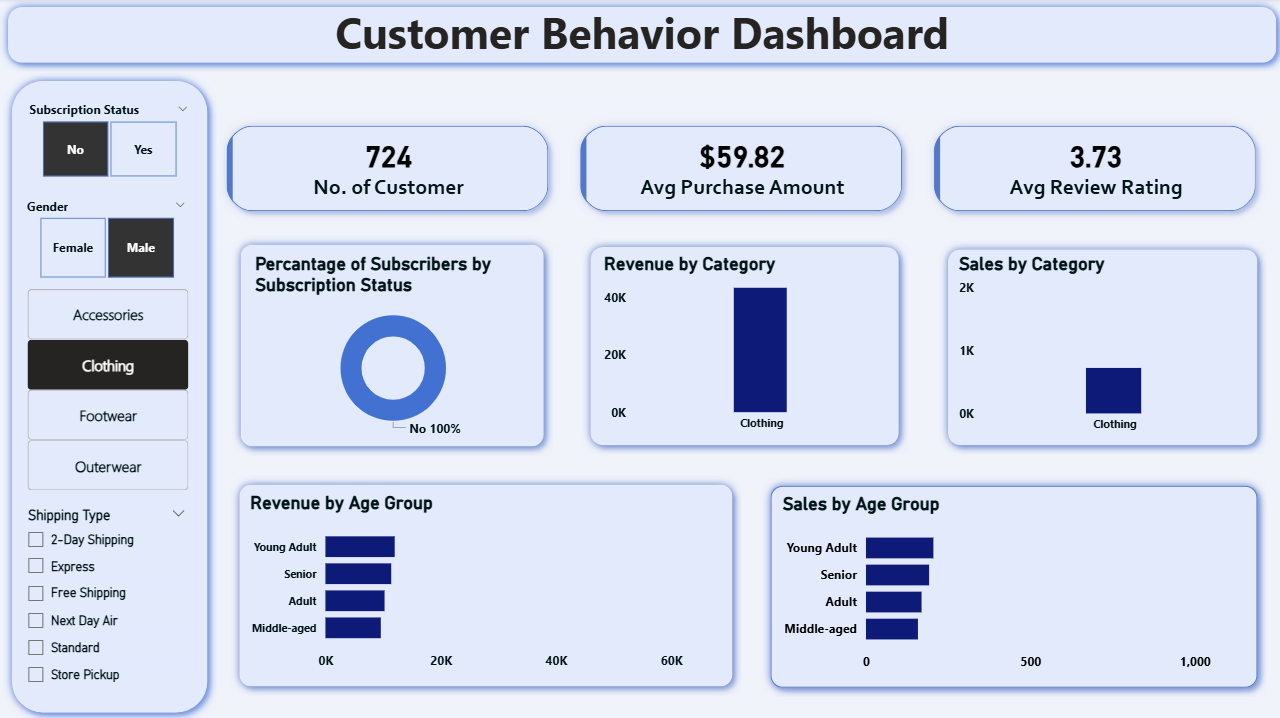

The dashboard page shown, as its layout file describes it:
{"tool":"powerbi","page":{"name":"Page 1","canvas":[1280,720],"ordinal":0},"visuals":[{"type":"shape","box":[0,0,1280,73.4],"z":0},{"type":"shape","box":[0,73.4,1280,646.9],"z":1000},{"type":"cardVisual","fields":{"Data":["customer_behavior customer.No. of Customer","customer_behavior customer.Avg Purchase Amount","customer_behavior customer.Avg Review Rating"]},"box":[197.8,98.3,1082.2,143.1],"z":2000},{"type":"textbox","box":[0,0,1280,73.4],"z":3000},{"type":"shape","box":[579.7,238.8,324.7,215.2],"z":4000},{"type":"shape","box":[935.5,241.3,325.9,212.7],"z":5000},{"type":"shape","box":[230.9,236.6,319.7,218.9],"z":6000},{"type":"shape","box":[230.1,475.2,508.8,218.9],"z":7000},{"type":"shape","box":[758.8,476.4,502.6,218.9],"z":8000},{"type":"donutChart","title":"Percantage of Subscribers by Subscription Status","fields":{"Category":["customer_behavior customer.subscription_status"],"Y":["Count(customer_behavior customer.customer_id)"]},"box":[249.5,254,284.9,187.8],"z":9000},{"type":"clusteredColumnChart","title":"Revenue by Category","fields":{"Y":["Sum(customer_behavior customer.purchase_amount)"],"Category":["customer_behavior customer.category"]},"box":[597.1,253.8,292.3,186.6],"z":10000},{"type":"clusteredColumnChart","title":"Sales by Category","fields":{"Category":["customer_behavior customer.category"],"Y":["CountNonNull(customer_behavior customer.item_purchased)"]},"box":[950.4,253.8,296.1,187.8],"z":11000},{"type":"clusteredBarChart","title":"Revenue by Age Group","fields":{"Category":["customer_behavior customer.age_group"],"Y":["Sum(customer_behavior customer.purchase_amount)"]},"box":[245.1,491.4,480.2,186.6],"z":12000},{"type":"clusteredBarChart","title":"Sales by Age Group","fields":{"Category":["customer_behavior customer.age_group"],"Y":["CountNonNull(customer_behavior customer.customer_id)"]},"box":[775,492.6,469,186.6],"z":13000},{"type":"shape","box":[3.7,73.4,212.7,646.9],"z":14000},{"type":"slicer","fields":{"Values":["customer_behavior customer.subscription_status"]},"box":[17.4,98,182.9,85.8],"z":15000},{"type":"slicer","fields":{"Values":["customer_behavior customer.gender"]},"box":[14.9,193.8,182.9,91],"z":16000},{"type":"advancedSlicerVisual","fields":{"Values":["customer_behavior customer.category"]},"box":[23.6,284.9,170.4,210.2],"z":17000},{"type":"slicer","fields":{"Values":["customer_behavior customer.shipping_type"]},"box":[16.2,501.1,181.6,192.8],"z":18000}]}

Visuals, with their boxes in screenshot pixels (x1, y1, x2, y2), scaled from the page's 1280x720 canvas onto the 1280x718 screenshot:
shape: (0,0,1279,73)
shape: (0,73,1279,717)
cardVisual - customer_behavior customer.No. of Customer x customer_behavior customer.Avg Purchase Amount: (198,98,1279,241)
textbox: (0,0,1279,73)
shape: (580,238,904,453)
shape: (936,241,1261,453)
shape: (231,236,551,454)
shape: (230,474,739,692)
shape: (759,475,1261,693)
"Percantage of Subscribers by Subscription Status" donutChart: (250,253,534,441)
"Revenue by Category" clusteredColumnChart: (597,253,889,439)
"Sales by Category" clusteredColumnChart: (950,253,1246,440)
"Revenue by Age Group" clusteredBarChart: (245,490,725,676)
"Sales by Age Group" clusteredBarChart: (775,491,1244,677)
shape: (4,73,216,717)
slicer - customer_behavior customer.subscription_status: (17,98,200,183)
slicer - customer_behavior customer.gender: (15,193,198,284)
advancedSlicerVisual - customer_behavior customer.category: (24,284,194,494)
slicer - customer_behavior customer.shipping_type: (16,500,198,692)
